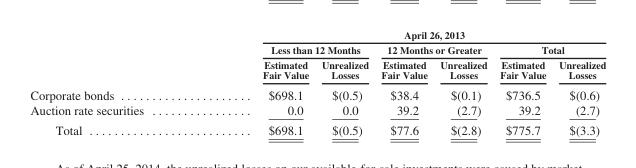table: (29, 28, 605, 136)
table column: (29, 28, 202, 136), (202, 28, 314, 136), (314, 28, 374, 136), (374, 28, 433, 136), (433, 28, 492, 136), (492, 28, 551, 136), (551, 28, 605, 136)
table column header: (29, 28, 605, 83)
table row: (29, 57, 605, 83), (29, 83, 605, 101), (29, 101, 605, 119), (29, 119, 605, 136), (29, 41, 605, 57), (29, 28, 605, 41)
table spanning cell: (202, 28, 605, 41), (202, 41, 374, 57), (374, 41, 492, 57), (492, 41, 605, 57)
